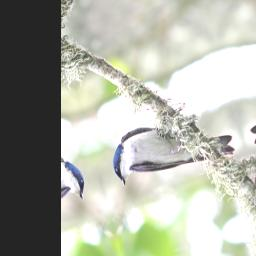Swallow: (104, 99, 239, 195)
